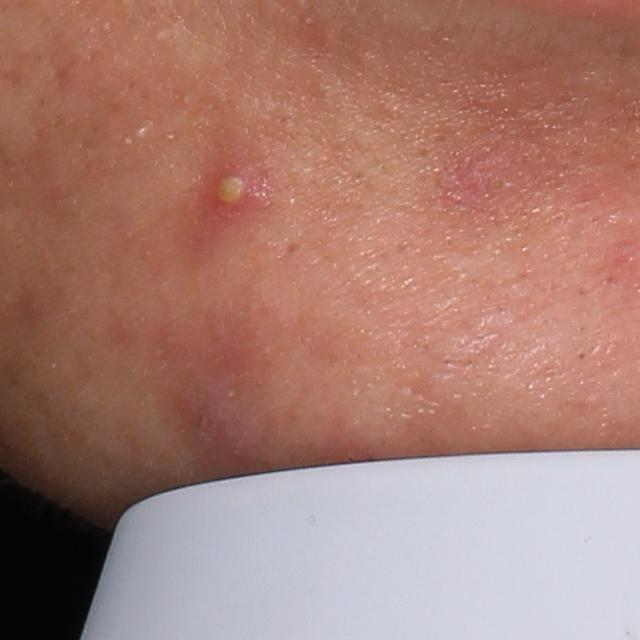pustule: (204, 154, 256, 214)
